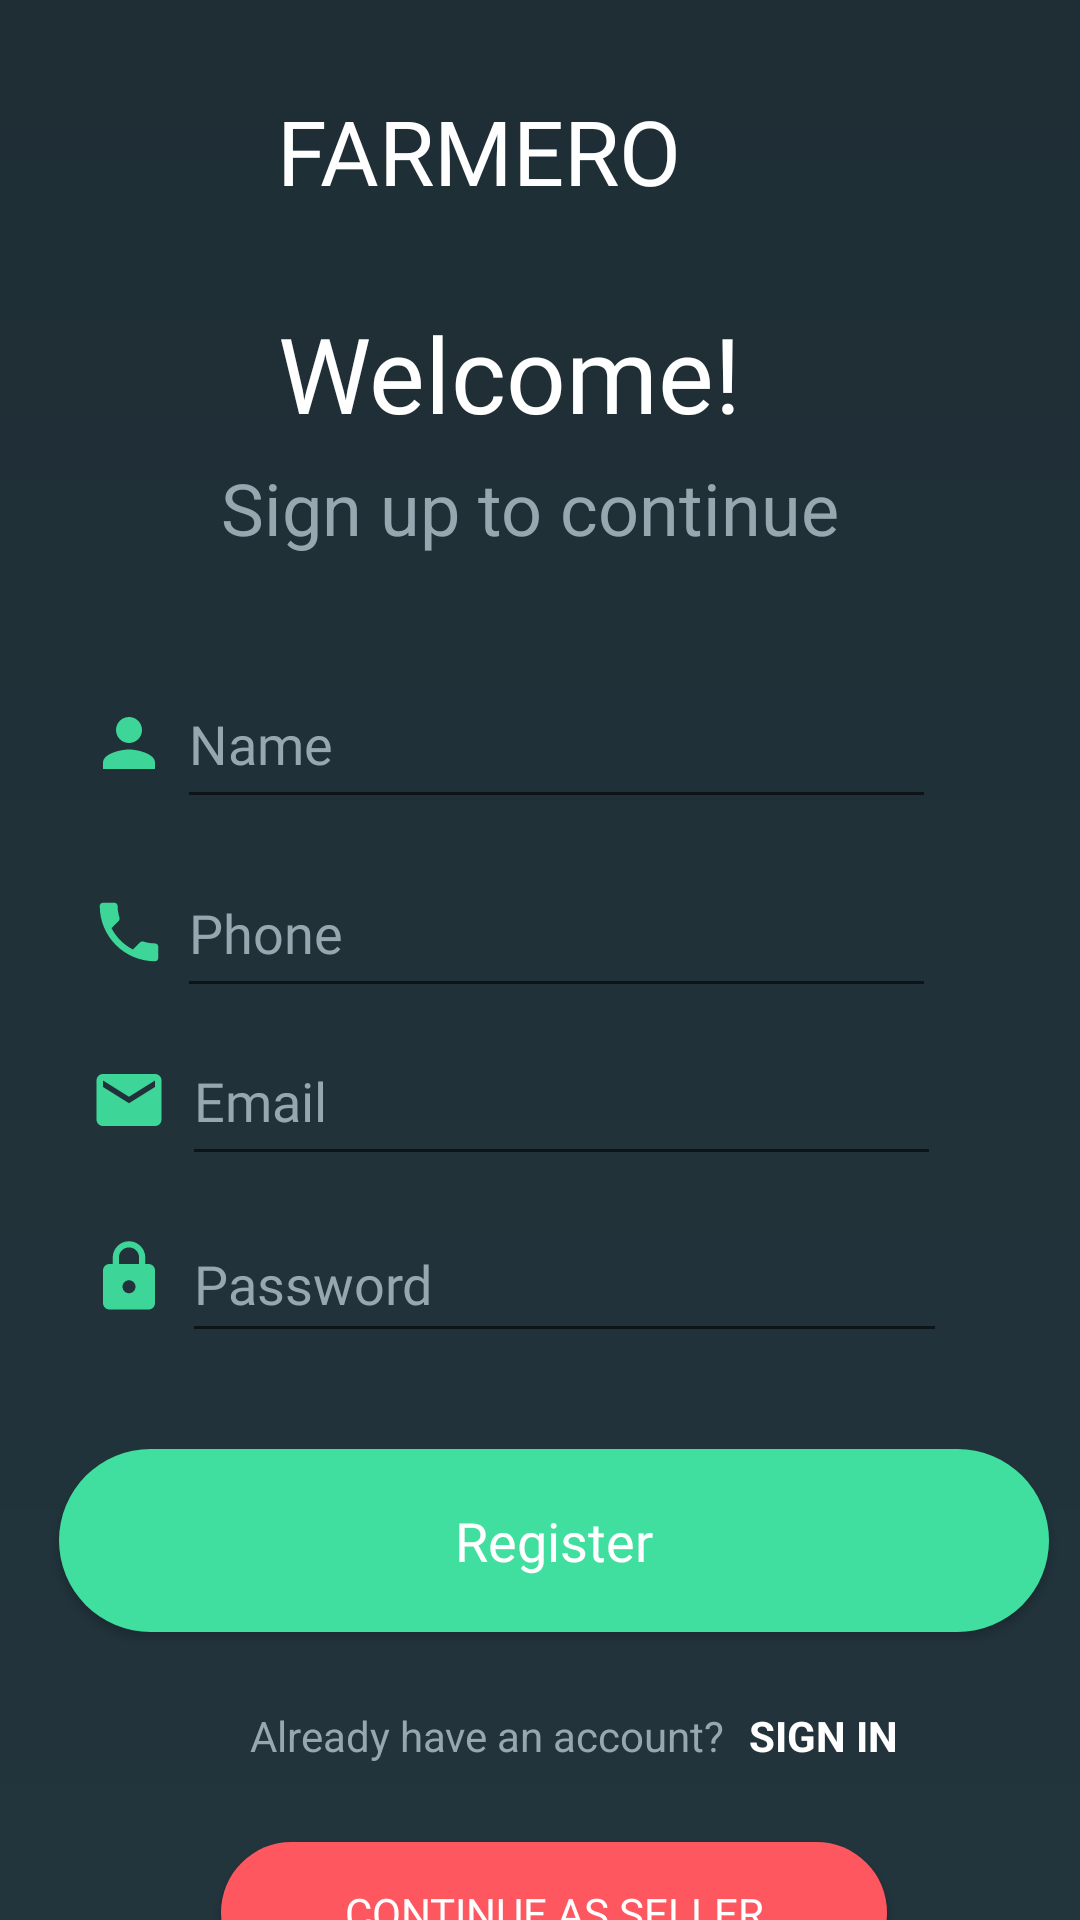

Named icons in this screenshot (1080w x 1920h) and their centers, (x=x, y=y):
call: (x=129, y=932)
lock: (x=129, y=1275)
person: (x=129, y=743)
